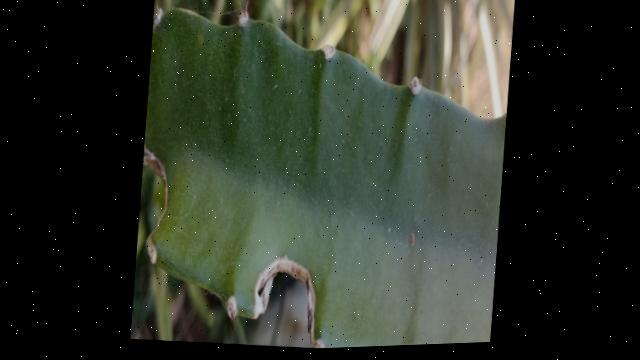stemcanker: (403, 229, 424, 258)
